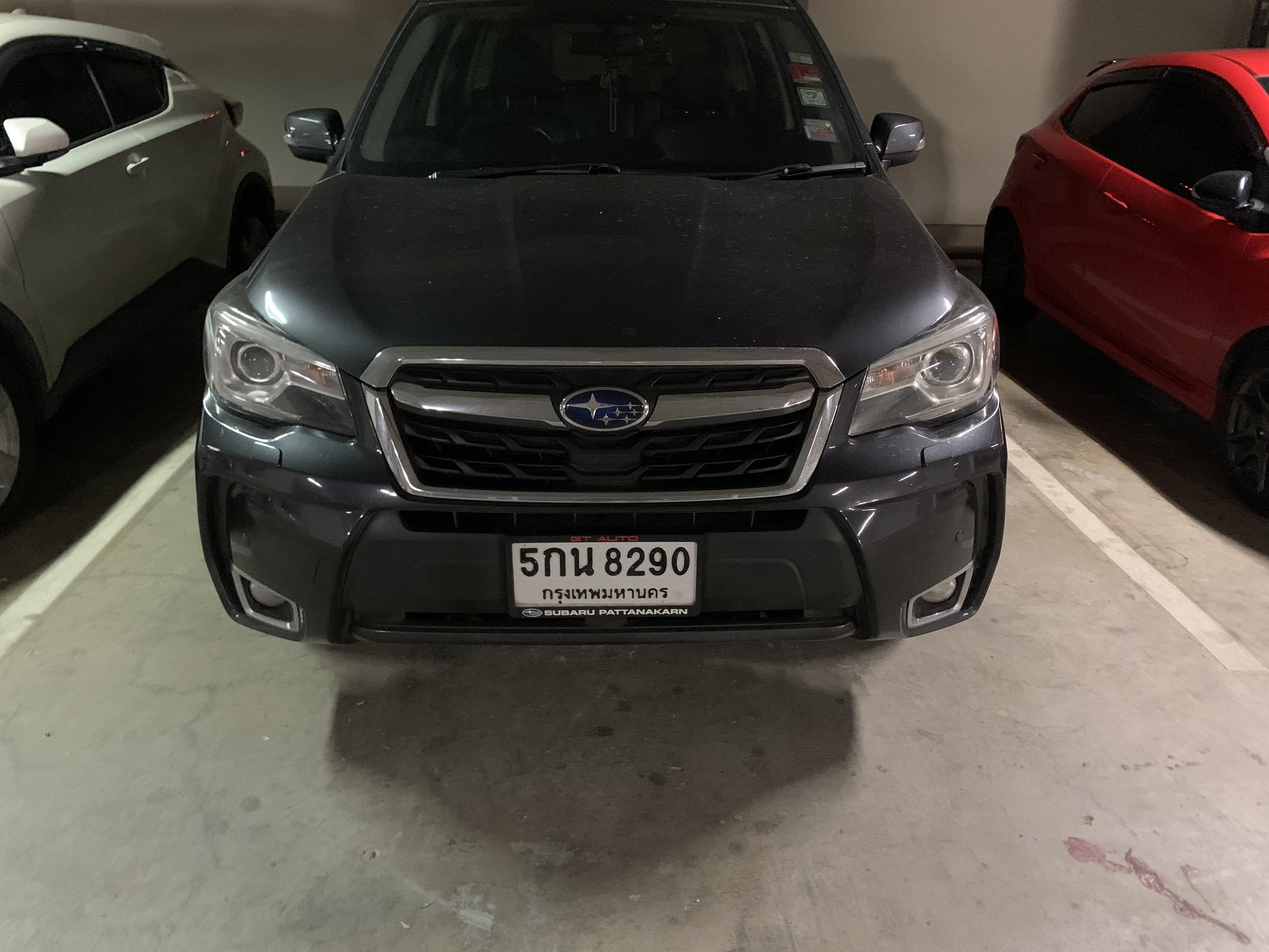license-plate: (499, 537, 706, 626)
